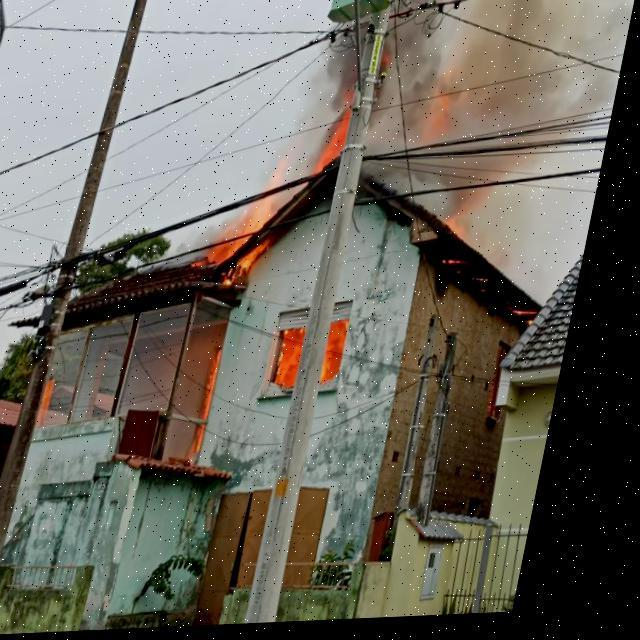Fire: (191, 168, 305, 294), (210, 350, 239, 460), (320, 108, 358, 176), (284, 330, 324, 390), (335, 320, 364, 388), (447, 218, 480, 242)
